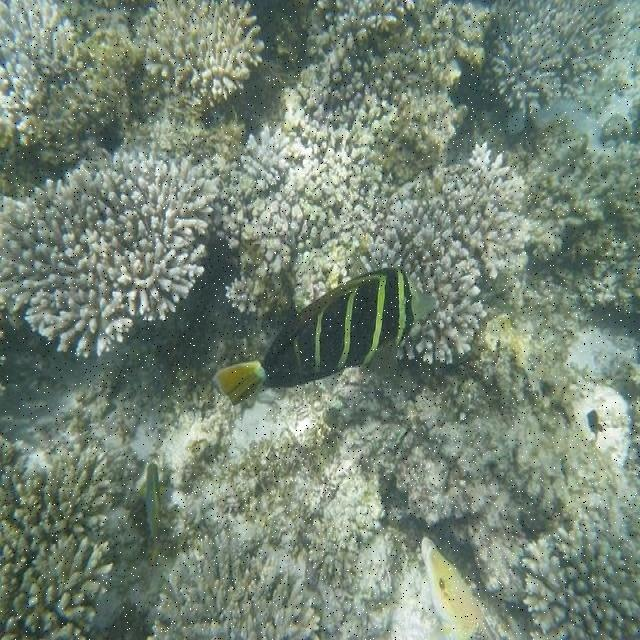fish: (212, 259, 433, 409), (421, 537, 503, 639), (143, 465, 162, 562)
reefs: (217, 0, 563, 361), (0, 149, 217, 358), (0, 441, 113, 639), (151, 531, 323, 639), (485, 0, 639, 115), (522, 524, 639, 639)
